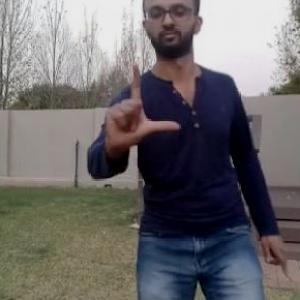land_hand: (98, 55, 184, 160)
